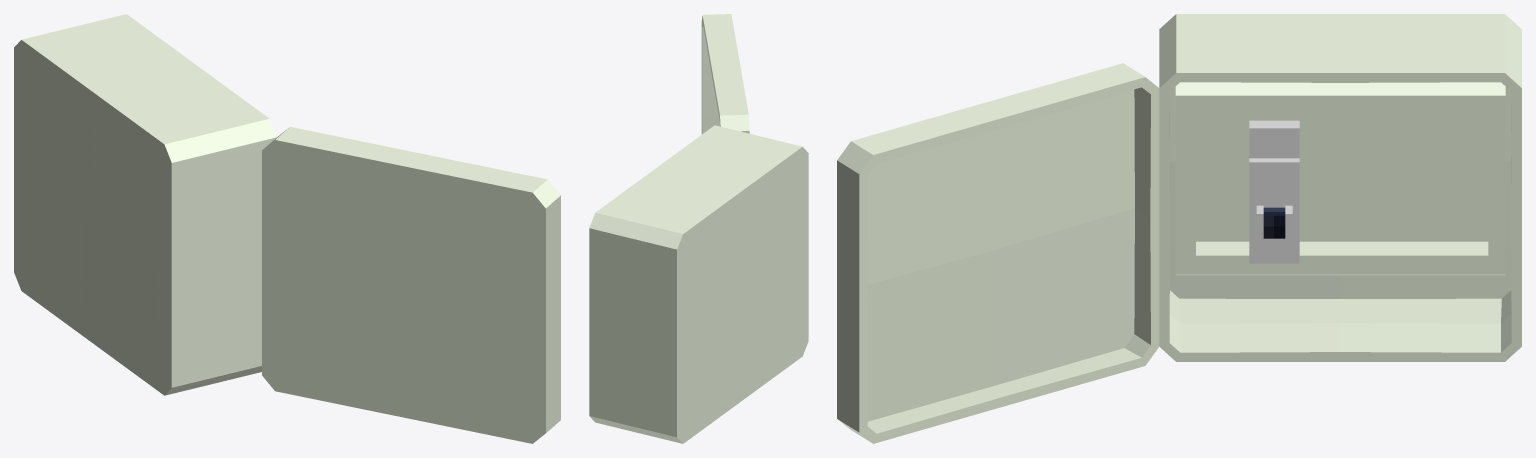
File: breaker_box.glb
The picture shows the model from 3 angles, left to right: view 1: azimuth 30°, elevation 25°; view 2: azimuth 150°, elevation 25°; view 3: azimuth 270°, elevation 25°; orthographic projection. The views are drawn at different scales.
Visible parts, largest first — view 1: Breaker Panel; view 2: Breaker Panel; view 3: Breaker Panel, Breaker Panel.001, Breakers, Breakers.001.
Part boxes in pixels (<box>): Breaker Panel: <box>14,14,560,443</box>; Breaker Panel: <box>589,14,808,443</box>; Breaker Panel: <box>837,14,1521,443</box>; Breaker Panel.001: <box>1175,82,1505,275</box>; Breakers: <box>1249,120,1299,263</box>; Breakers.001: <box>1263,207,1285,238</box>.
Size of the model in its own units: 0.4702 by 0.4366 by 0.9379.
1 material, 1 textured.
